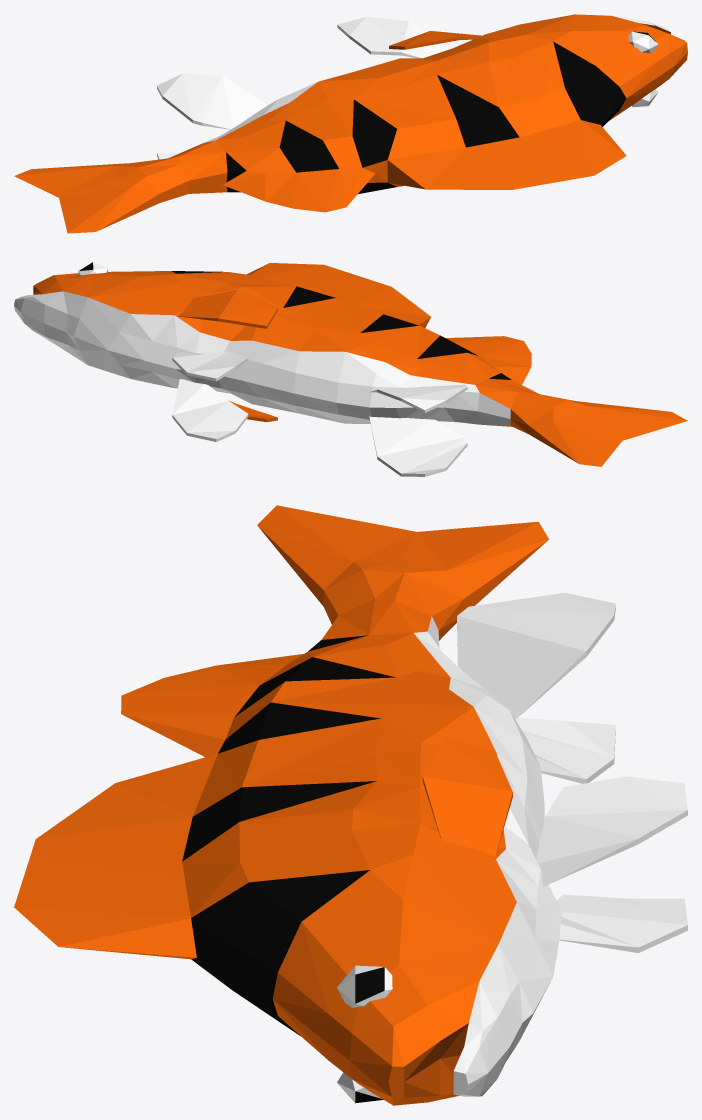
File: PerchDrip.glb
3 renders of one model, top to bottom at view 1: azimuth 30°, elevation 25°; view 2: azimuth 150°, elevation 25°; view 3: azimuth 270°, elevation 25°, orthographic. The views are drawn at different scales.
Parts seen in each view (by area): view 1: PerchDrip; view 2: PerchDrip; view 3: PerchDrip.
Part boxes in pixels (<box>): PerchDrip: <box>14,14,687,233</box>; PerchDrip: <box>14,262,687,476</box>; PerchDrip: <box>14,505,687,1105</box>.
Size of the model in its own units: 0.8416 by 0.1513 by 0.4137.
1 material, 1 textured.
